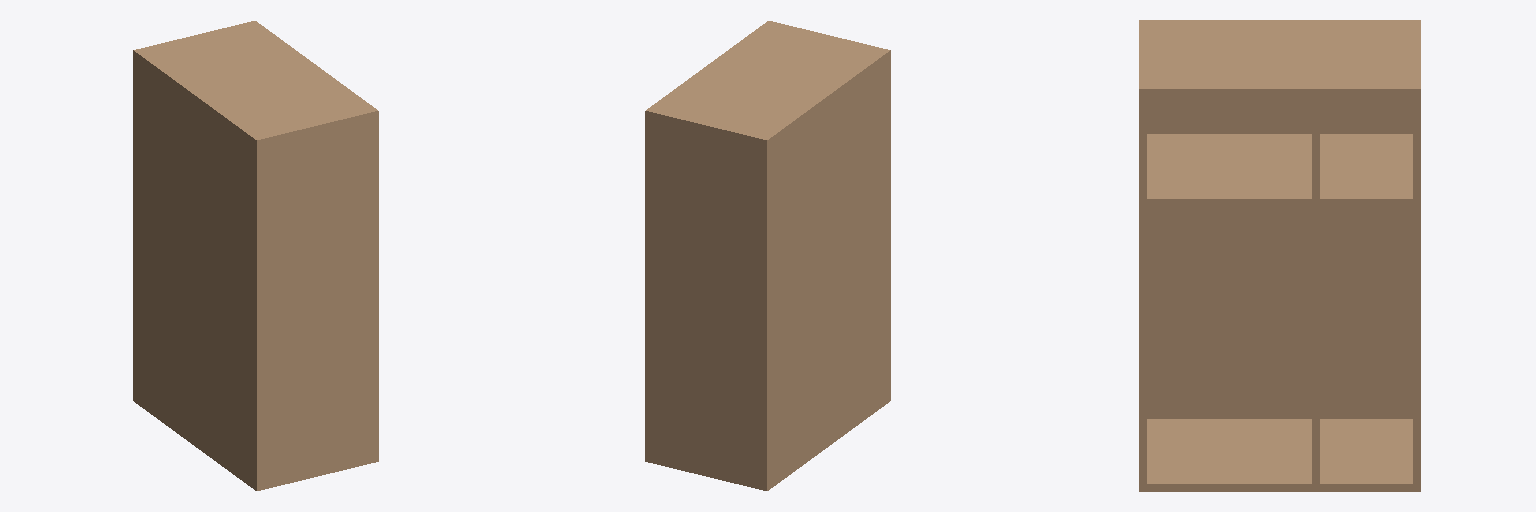
The robot description file, URDF, robot "plane":
<?xml version="1.1" ?> 
<robot name="plane"> 

  <link name="shelve_bottom">
    <contact>
        <lateral_friction value="1"/>
    </contact>

    <inertial>
      <origin rpy="0 0 0" xyz="0 0 0"/>
      <mass value=".0"/>
      <inertia ixx="0" ixy="0" ixz="0" iyy="0" iyz="0" izz="0"/>
    </inertial>

    <visual>
      <origin rpy="0 0 0" xyz="0.0 0.0 0.01"/>
      <geometry>
        <box size="0.4 0.7 0.02"/>
      </geometry>
      <material name="table_gray"/>
    </visual>

    <collision>
      <origin rpy="0 0 0" xyz="0.0 0.0 0.01"/>
      <geometry>
        <box size="0.4 0.7 0.02"/>
      </geometry>
    </collision>

  </link>

  <link name="shelve_top">
    <contact>
        <lateral_friction value="1"/>
    </contact>

    <inertial>
      <origin rpy="0 0 0" xyz="0 0 0"/>
      <mass value=".0"/>
      <inertia ixx="0" ixy="0" ixz="0" iyy="0" iyz="0" izz="0"/>
    </inertial>

    <visual>
      <origin rpy="0 0 0" xyz="0.0 0.0 1.09"/>
      <geometry>
        <box size="0.4 0.7 0.02"/>
      </geometry>
      <material name="table_gray"/>
    </visual>

    <collision>
      <origin rpy="0 0 0" xyz="0.0 0.0 1.09"/>
      <geometry>
        <box size="0.4 0.7 0.02"/>
      </geometry>
    </collision>

  </link>

  <joint name="joint_bt" type="fixed">
    <parent link="shelve_bottom"/>
    <child link="shelve_top"/>
    <origin rpy="0 0 0.0" xyz="0 0 0.0"/>
  </joint>

  <link name="shelve_back">
    <contact>
        <lateral_friction value="1"/>
    </contact>

    <inertial>
      <origin rpy="0 0 0" xyz="0 0 0"/>
      <mass value=".0"/>
      <inertia ixx="0" ixy="0" ixz="0" iyy="0" iyz="0" izz="0"/>
    </inertial>

    <visual>
      <origin rpy="0 0 0" xyz="-0.19 0 0.55"/>
      <geometry>
        <box size="0.02 0.7 1.06"/>
      </geometry>
      <material name="table_gray"/>
    </visual>

    <collision>
      <origin rpy="0 0 0" xyz="-0.19 0 0.55"/>
      <geometry>
        <box size="0.02 0.7 1.06"/>
      </geometry>
    </collision>

  </link>

  <joint name="joint2_bb" type="fixed">
    <parent link="shelve_bottom"/>
    <child link="shelve_back"/>
    <origin rpy="0 0 0.0" xyz="0 0 0.0"/>
  </joint>

  <link name="shelve_left">
    <contact>
        <lateral_friction value="1"/>
    </contact>

    <inertial>
      <origin rpy="0 0 0" xyz="0 0 0"/>
      <mass value=".0"/>
      <inertia ixx="0" ixy="0" ixz="0" iyy="0" iyz="0" izz="0"/>
    </inertial>

    <visual>
      <origin rpy="0 0 0" xyz="0.01 -0.33999999999999997 0.55"/>
      <geometry>
        <box size="0.38 0.02 1.06"/>
      </geometry>
      <material name="table_gray"/>
    </visual>

    <collision>
      <origin rpy="0 0 0" xyz="0.01 -0.33999999999999997 0.55"/>
      <geometry>
        <box size="0.38 0.02 1.06"/>
      </geometry>
    </collision>

  </link>

  <joint name="joint_bl" type="fixed">
    <parent link="shelve_bottom"/>
    <child link="shelve_left"/>
    <origin rpy="0 0 0.0" xyz="0 0 0.0"/>
  </joint>

  <link name="shelve_right">
    <contact>
        <lateral_friction value="1"/>
    </contact>

    <inertial>
      <origin rpy="0 0 0" xyz="0 0 0"/>
      <mass value=".0"/>
      <inertia ixx="0" ixy="0" ixz="0" iyy="0" iyz="0" izz="0"/>
    </inertial>

    <visual>
      <origin rpy="0 0 0" xyz="0.01 0.33999999999999997 0.55"/>
      <geometry>
        <box size="0.38 0.02 1.06"/>
      </geometry>
      <material name="table_gray"/>
    </visual>

    <collision>
      <origin rpy="0 0 0" xyz="0.01 0.33999999999999997 0.55"/>
      <geometry>
        <box size="0.38 0.02 1.06"/>
      </geometry>
    </collision>

  </link>

  <joint name="joint_br" type="fixed">
    <parent link="shelve_bottom"/>
    <child link="shelve_right"/>
    <origin rpy="0 0 0.0" xyz="0 0 0.0"/>
  </joint>

  <link name="shelve_vertical_0">
    <contact>
        <lateral_friction value="1"/>
    </contact>

    <inertial>
      <origin rpy="0 0 0" xyz="0 0 0"/>
      <mass value=".0"/>
      <inertia ixx="0" ixy="0" ixz="0" iyy="0" iyz="0" izz="0"/>
    </inertial>

    <visual>
      <origin rpy="0 0 0" xyz="0.01 0.09000000000000001 0.55"/>
      <geometry>
        <box size="0.38 0.02 1.06"/>
      </geometry>
      <material name="table_gray"/>
    </visual>

    <collision>
      <origin rpy="0 0 0" xyz="0.01 0.09000000000000001 0.55"/>
      <geometry>
        <box size="0.38 0.02 1.06"/>
      </geometry>
    </collision>

  </link>

  <joint name="joint_bv0" type="fixed">
    <parent link="shelve_bottom"/>
    <child link="shelve_vertical_0"/>
    <origin rpy="0 0 0.0" xyz="0 0 0.0"/>
  </joint>

  <link name="shelve_horizontal_0">
    <contact>
        <lateral_friction value="1"/>
    </contact>

    <inertial>
      <origin rpy="0 0 0" xyz="0 0 0"/>
      <mass value=".0"/>
      <inertia ixx="0" ixy="0" ixz="0" iyy="0" iyz="0" izz="0"/>
    </inertial>

    <visual>
      <origin rpy="0 0 0" xyz="0.01 0 0.79"/>
      <geometry>
        <box size="0.38 0.6599999999999999 0.02"/>
      </geometry>
      <material name="table_gray"/>
    </visual>

    <collision>
      <origin rpy="0 0 0" xyz="0.01 0 0.79"/>
      <geometry>
        <box size="0.38 0.6599999999999999 0.02"/>
      </geometry>
    </collision>

  </link>

  <joint name="joint_hv0" type="fixed">
    <parent link="shelve_bottom"/>
    <child link="shelve_horizontal_0"/>
    <origin rpy="0 0 0.0" xyz="0 0 0.0"/>
  </joint>

  <material name="table_gray">
    <color rgba=".7686 .6431 .5176 1."/>
  </material>
</robot>

--- What the picture shows (computed from the rendered views, not written in the file) ---
Views: 3 orthographic renders of the robot side by side, from view 1: azimuth 30°, elevation 25°; view 2: azimuth 150°, elevation 25°; view 3: azimuth 270°, elevation 25°.
Robot: plane — 7 links, 6 joints (6 fixed); root link shelve_bottom; default pose: every joint at zero.
Visible links, largest first — view 1: shelve_back, shelve_left, shelve_top, shelve_bottom; view 2: shelve_back, shelve_right, shelve_top, shelve_bottom; view 3: shelve_back, shelve_top, shelve_bottom, shelve_horizontal_0, shelve_left, shelve_right, shelve_vertical_0.
Link boxes in pixels (x1,y1,x2,y2): shelve_back: (133, 57, 262, 484); shelve_left: (263, 117, 378, 482); shelve_top: (133, 21, 378, 146); shelve_bottom: (133, 395, 378, 490); shelve_back: (761, 57, 890, 484); shelve_right: (645, 117, 760, 482); shelve_top: (645, 21, 890, 146); shelve_bottom: (645, 395, 890, 490); shelve_back: (1147, 96, 1412, 418); shelve_top: (1139, 20, 1420, 95); shelve_bottom: (1139, 419, 1420, 491); shelve_horizontal_0: (1147, 134, 1412, 205); shelve_left: (1139, 96, 1146, 483); shelve_right: (1413, 96, 1420, 483); shelve_vertical_0: (1312, 96, 1319, 483).
Size in the robot's own frame: 0.4 by 0.7 by 1.1 metres.
Geometry: primitives only (box / cylinder / sphere), no mesh files.